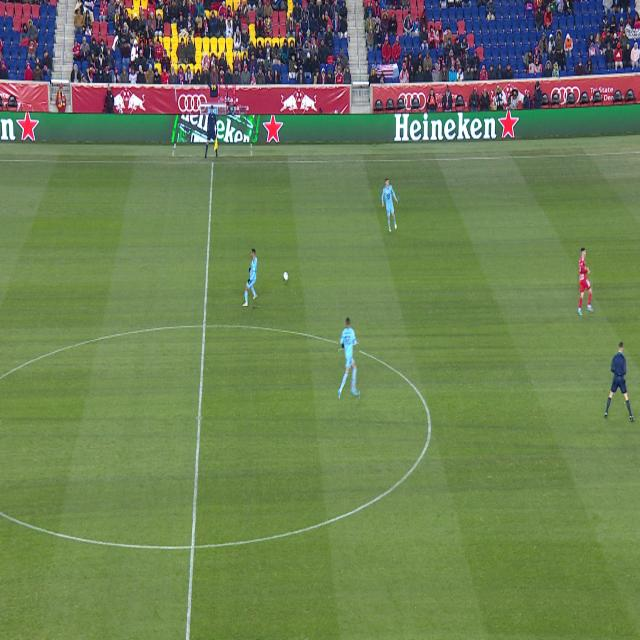football: (283, 272, 289, 281)
player: (339, 318, 359, 401), (578, 247, 593, 316), (382, 177, 398, 233), (243, 249, 258, 307)
referee: (604, 342, 635, 422)
